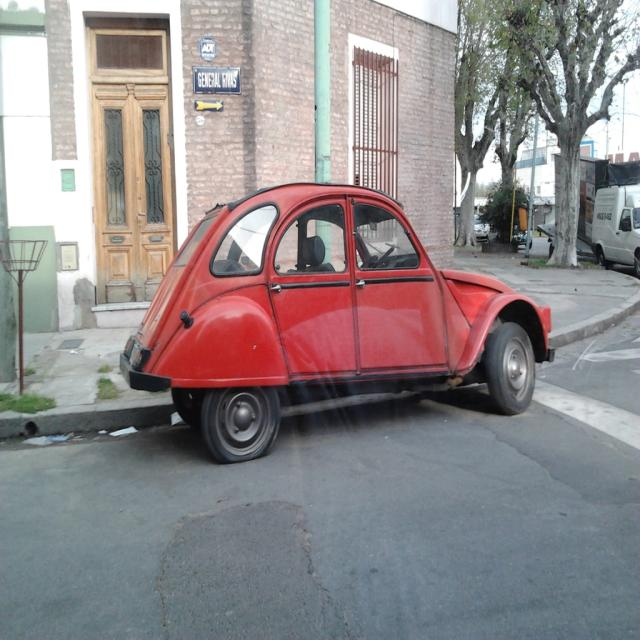car: (117, 177, 555, 461)
